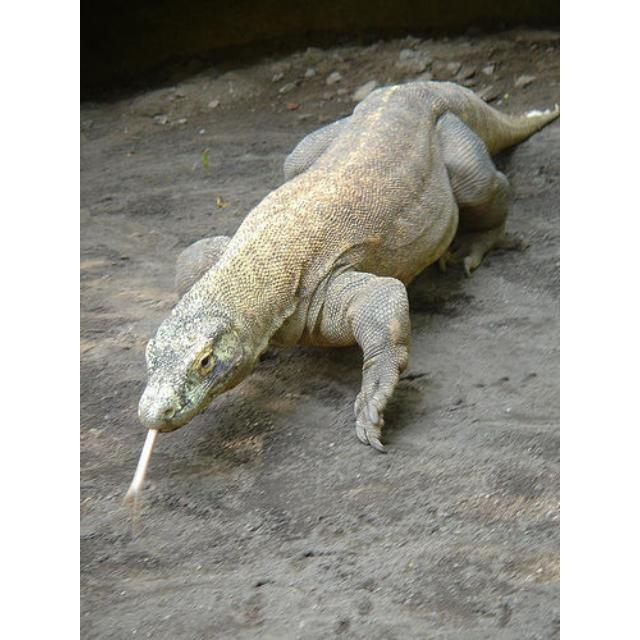KomodoDragon: (113, 80, 554, 534)
